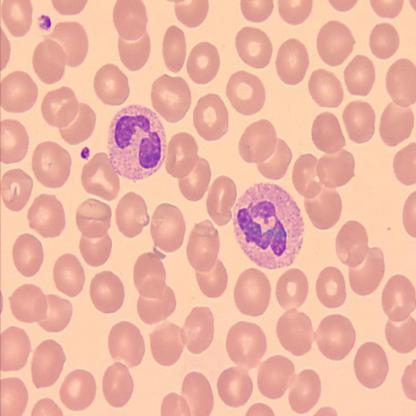Segmented neutrophil: (232, 180, 307, 271), (104, 101, 170, 182)
